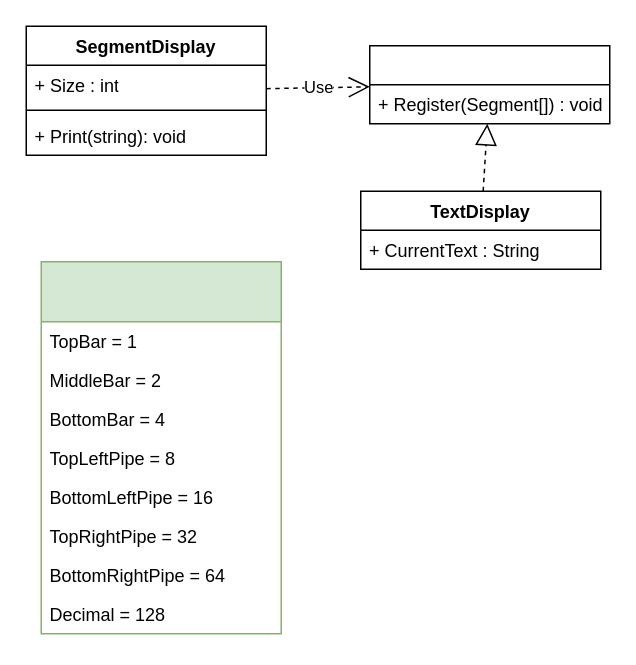
This 636x665 diagram has some shape labels left out. The box of each missing label's shape, as (x1, y1, x2, y2) in pixels:
<Enum> Segment: (40, 260, 281, 634)
DisplayDriver: (368, 44, 610, 124)
